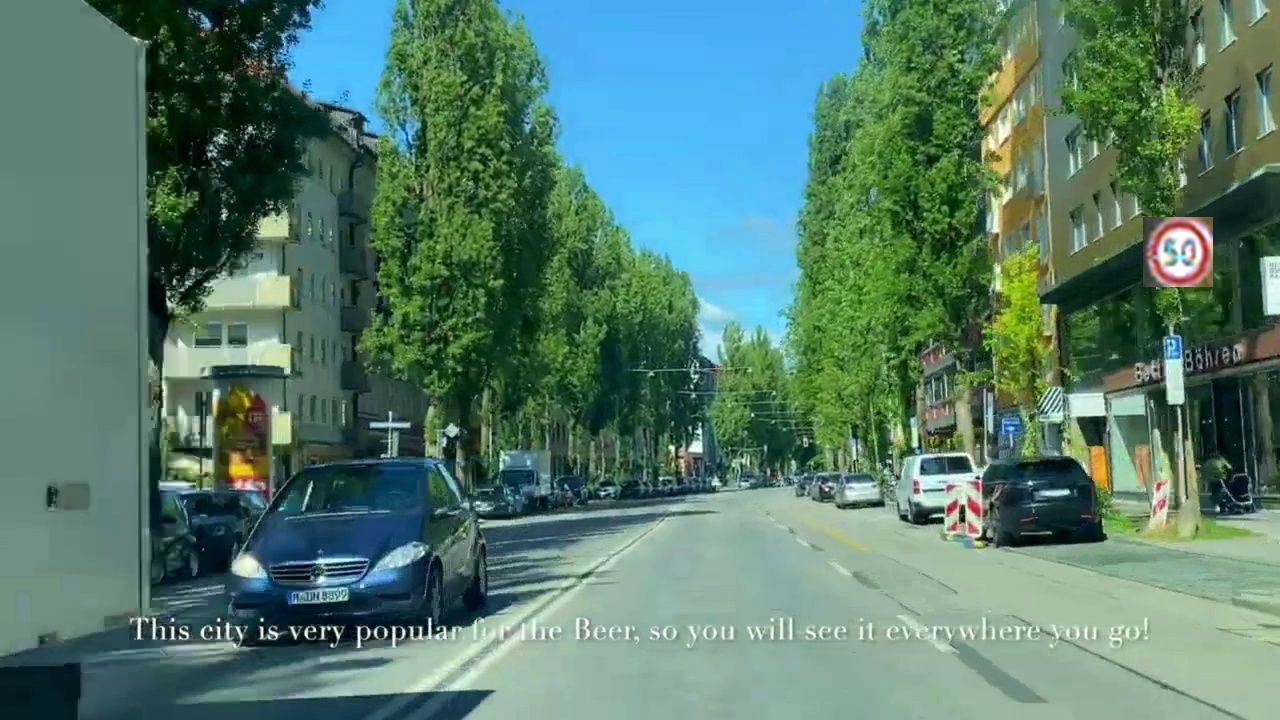Speed 50: (1143, 217, 1213, 287)
